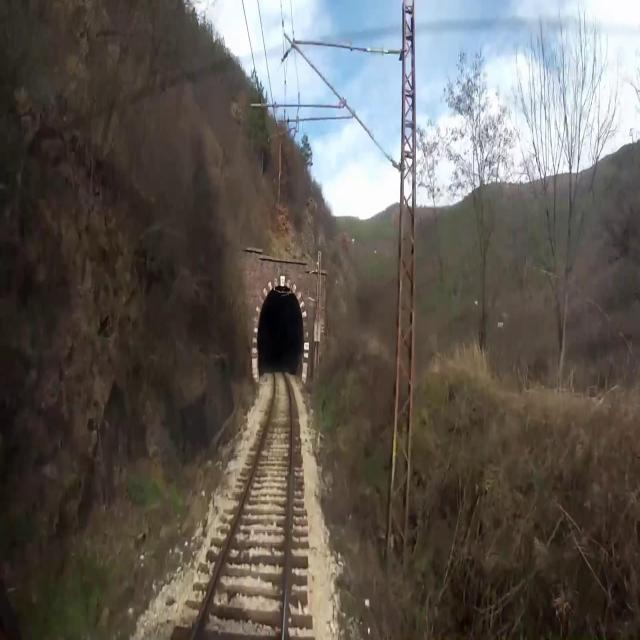rail-track: (195, 370, 290, 639)
